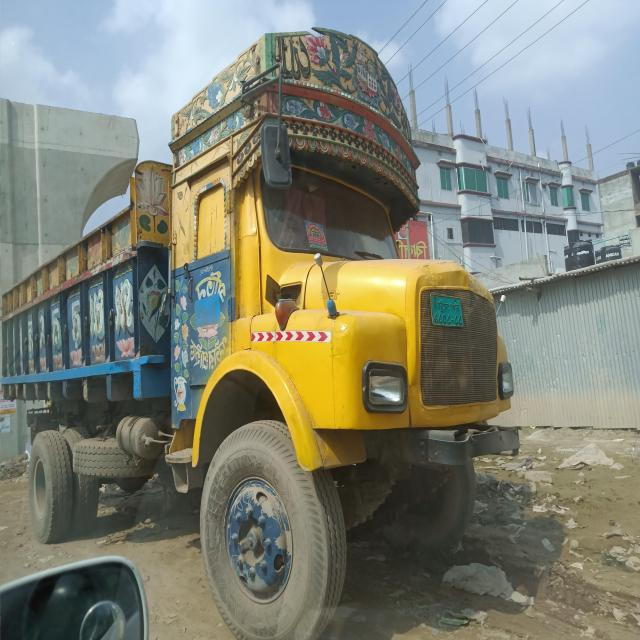truck: (0, 13, 527, 631)
